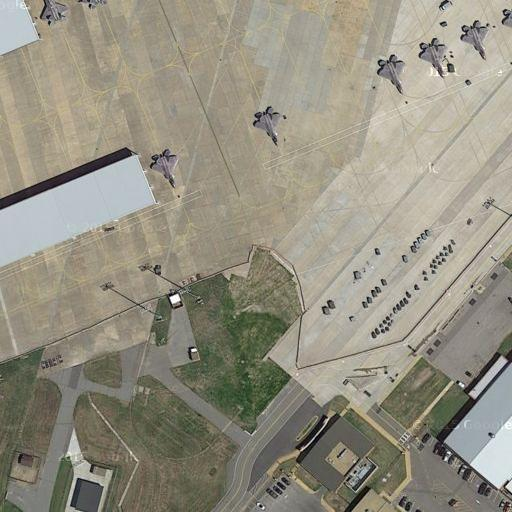F-22: (371, 50, 409, 97), (413, 32, 451, 78), (251, 103, 286, 148), (458, 18, 493, 62), (147, 148, 180, 188), (39, 1, 70, 29)
